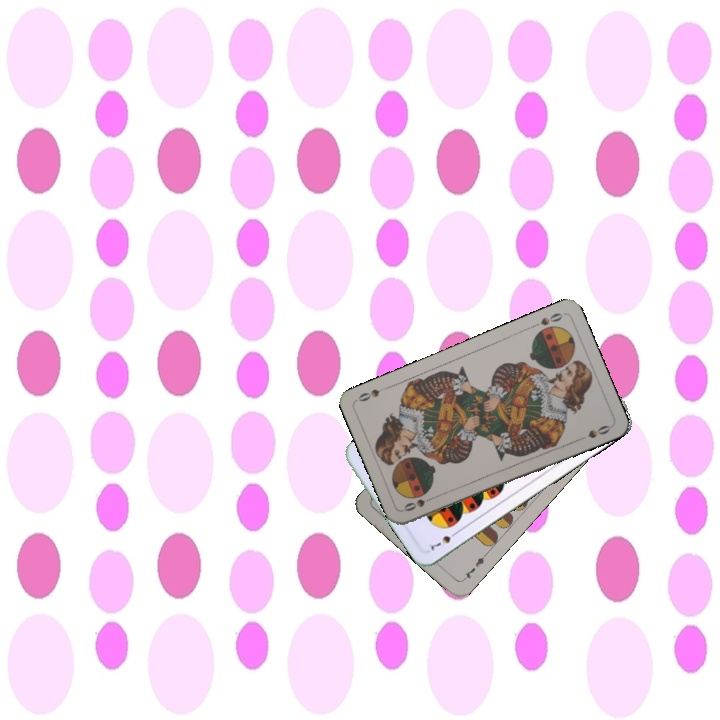E7: (458, 550, 489, 584)
S7: (424, 527, 461, 553)
SO: (399, 492, 438, 514), (527, 309, 565, 330)
